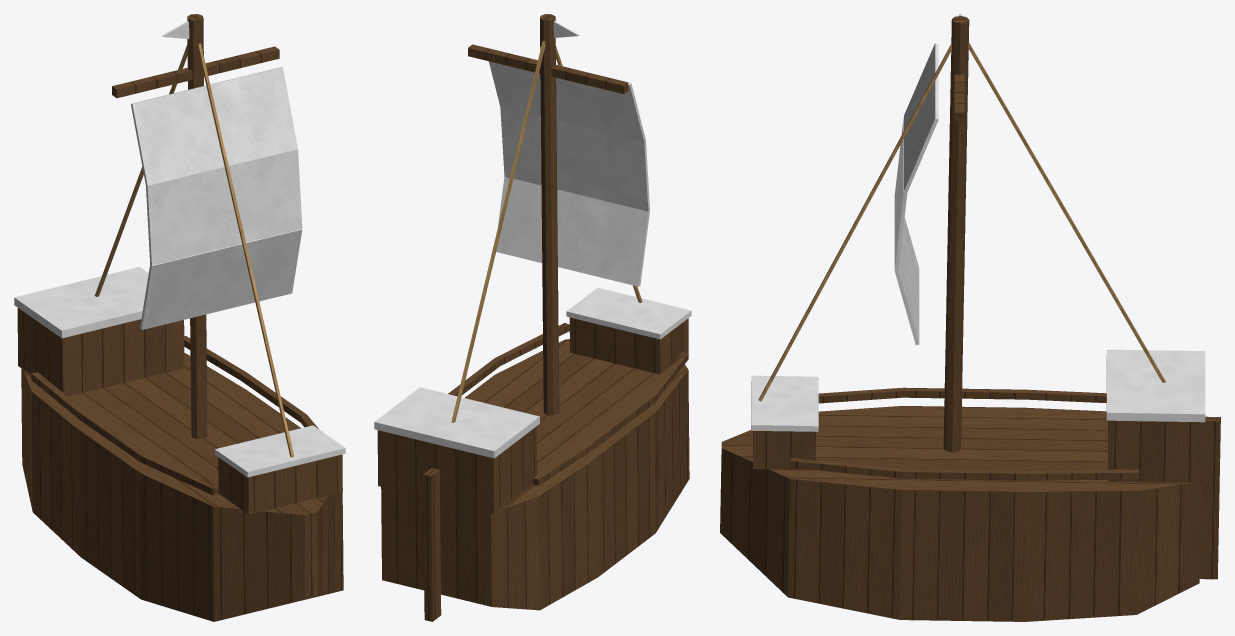
Rendered from harbour.ship.glb.
3 renders of one model, left to right at view 1: azimuth 30°, elevation 25°; view 2: azimuth 150°, elevation 25°; view 3: azimuth 270°, elevation 25°, orthographic. The views are drawn at different scales.
Visible parts, largest first — view 1: town.harbour.ship; view 2: town.harbour.ship; view 3: town.harbour.ship.
Boxes of the visible parts, x1,y1,x2,y2 form: town.harbour.ship: [14, 14, 345, 621]; town.harbour.ship: [374, 14, 691, 621]; town.harbour.ship: [720, 14, 1220, 621].
Bounding box in the file's own units: 1.6 × 4.96 × 4.02.
Materials: 4 (4 with a texture image).
